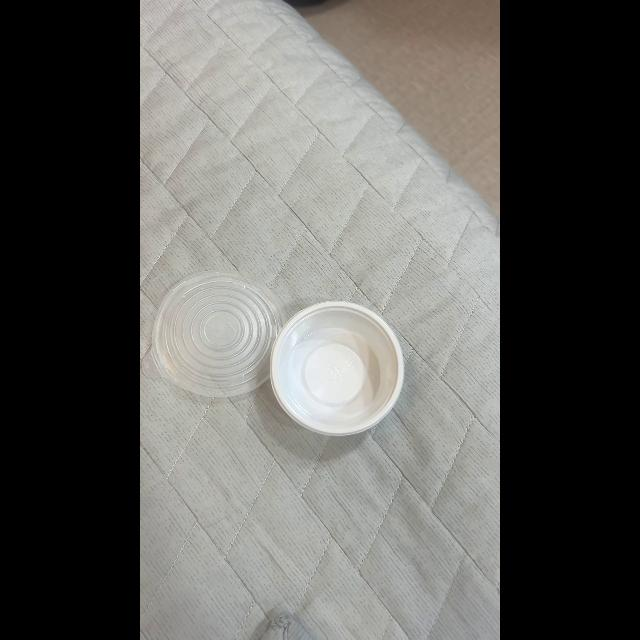clean: (270, 301, 404, 434), (152, 272, 286, 396)
